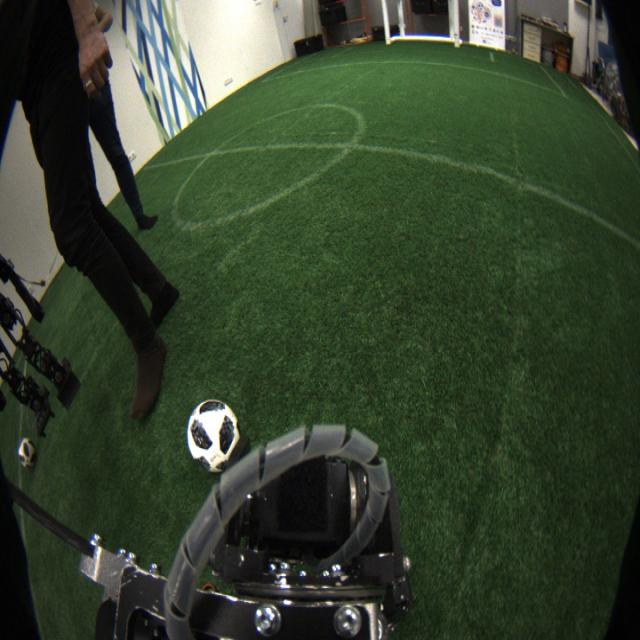ball: (186, 400, 246, 479), (18, 438, 38, 470)
goalpost: (381, 2, 394, 42), (452, 1, 460, 48)
